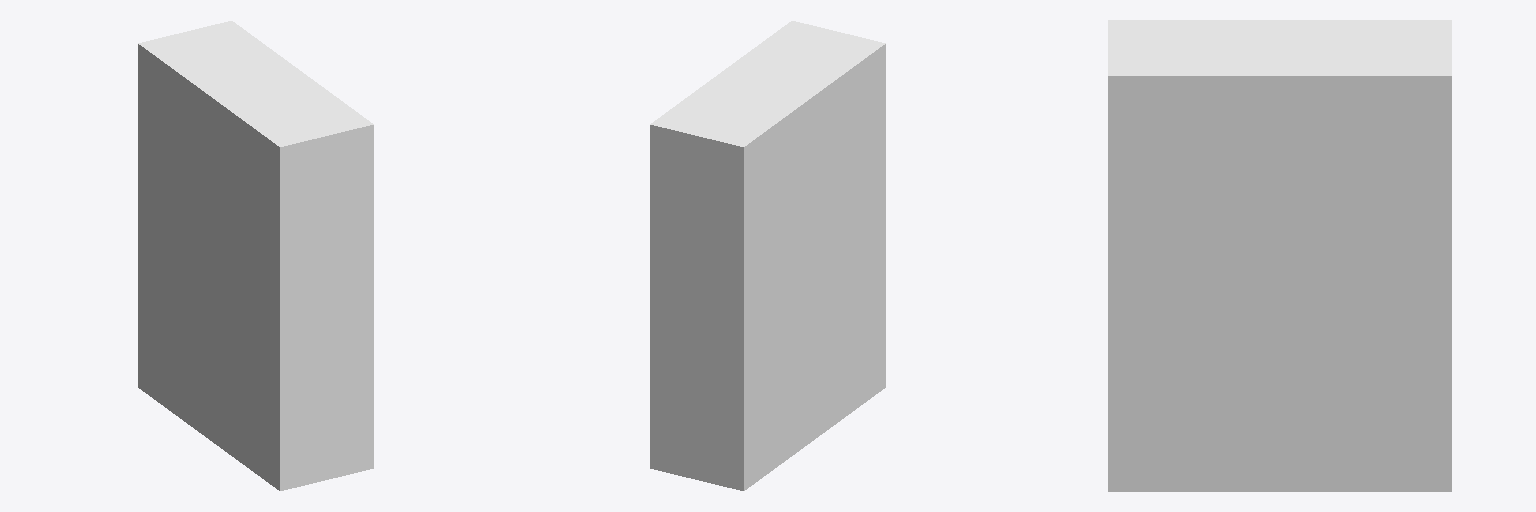
URDF robot description (cracker_box.urdf):
<?xml version="0.0" ?>
<robot name="cracker_box.urdf">
  <link name="baseLink">
    <inertial>
      <origin rpy="0 0 0" xyz="0 0 0"/>
       <mass value=".1"/>
       <inertia ixx="1" ixy="0" ixz="0" iyy="1" iyz="0" izz="1"/>
    </inertial>
    <visual>
      <origin rpy="0 0 0" xyz="0 0 0"/>
      <geometry>
	 	    <box size="0.042 0.11 0.147"/>
	 	    <!-- <box size="0.04 0.04 0.04"/> -->
      </geometry>
       <material name="white">
        <color rgba="1 1 1 1"/>
      </material>
    </visual>
    <collision>
      <origin rpy="0 0 0" xyz="0 0 0"/>
      <geometry>
	 	    <box size="0.042 0.11 0.147"/>
	 	    <!-- <box size="0.04 0.04 0.04"/> -->
      </geometry>
    </collision>
  </link>
</robot>

--- What the picture shows (computed from the rendered views, not written in the file) ---
3 views of the same robot in one strip: view 1: azimuth 30°, elevation 25°; view 2: azimuth 150°, elevation 25°; view 3: azimuth 270°, elevation 25° (orthographic).
Model cracker_box.urdf with 1 links and 0 joints (none), rooted at baseLink, posed every joint at zero.
Links seen in each view (by area): view 1: baseLink; view 2: baseLink; view 3: baseLink.
Boxes of the visible links, left/top/right/bottom form: baseLink: left=138, top=21, right=373, bottom=490; baseLink: left=650, top=21, right=885, bottom=490; baseLink: left=1108, top=20, right=1451, bottom=491.
Size in the robot's own frame: 0.042 by 0.11 by 0.147 metres.
Geometry: primitives only (box / cylinder / sphere), no mesh files.